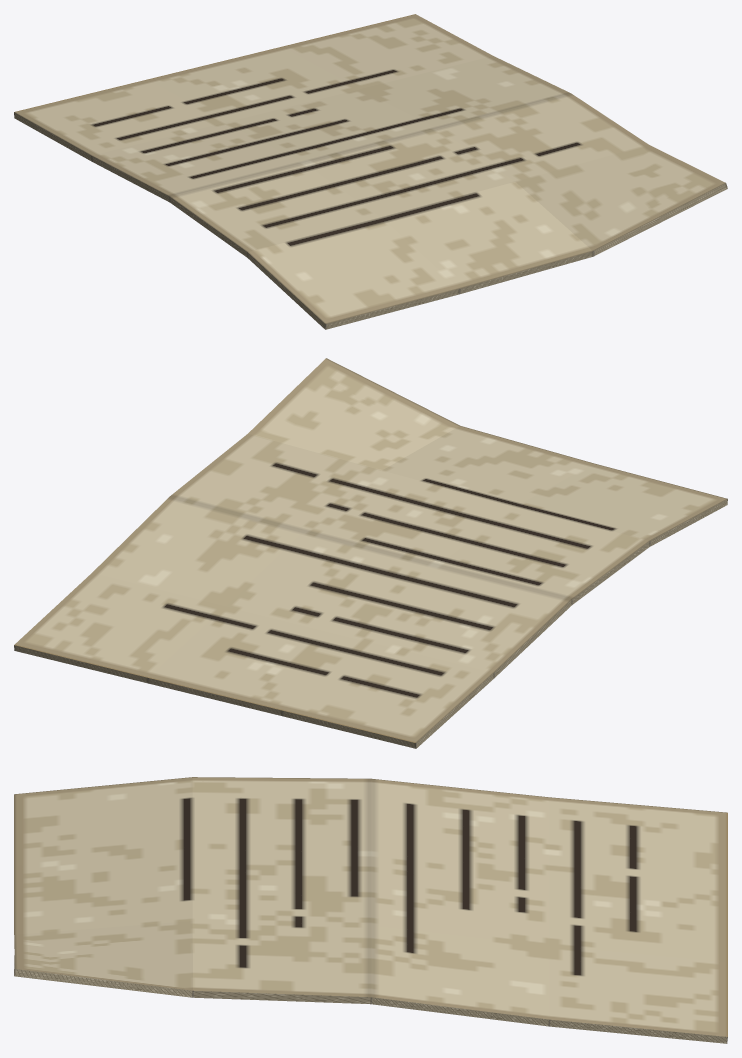
Rendered from Item_Doc_Servant.fbx.
3 renders of one model, top to bottom at view 1: azimuth 30°, elevation 25°; view 2: azimuth 150°, elevation 25°; view 3: azimuth 270°, elevation 25°, orthographic. The views are drawn at different scales.
Visible parts, largest first — view 1: Item_Doc_Servant; view 2: Item_Doc_Servant; view 3: Item_Doc_Servant.
Part boxes in pixels (x1,y1,x2,y2): Item_Doc_Servant: (14, 14, 727, 329); Item_Doc_Servant: (14, 358, 727, 748); Item_Doc_Servant: (14, 777, 727, 1043).
Bounding box in the file's own units: 17.53 × 2.71 × 23.53.
